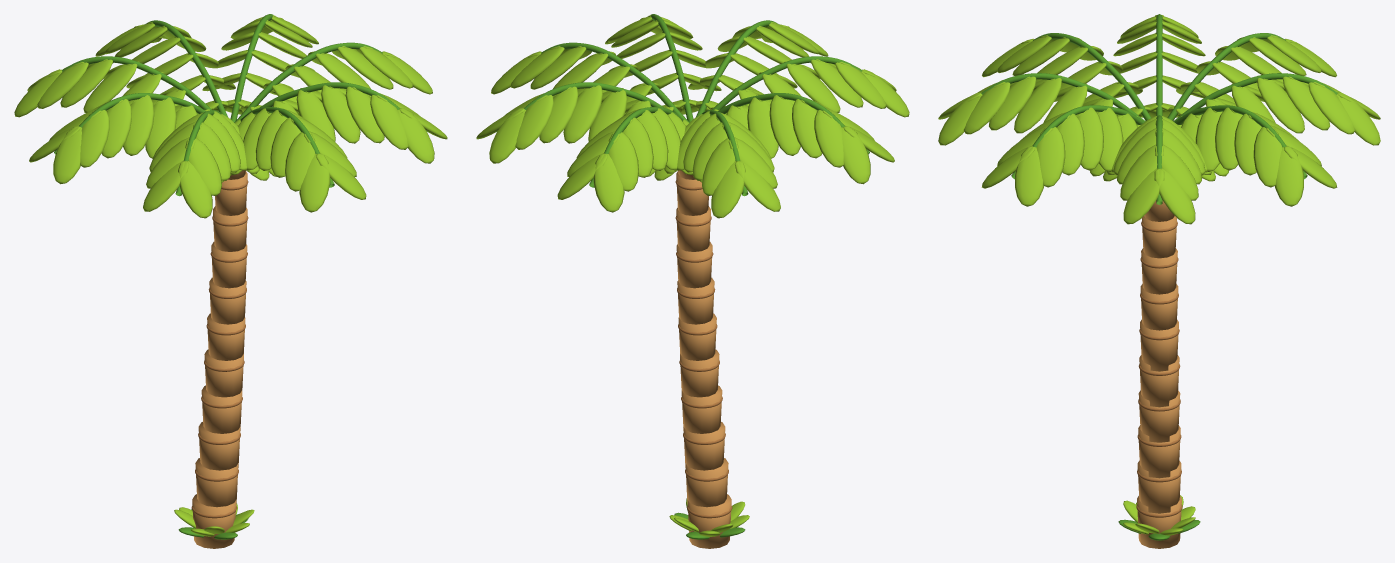
Rendered from palm.glb.
3 renders of one model, left to right at view 1: azimuth 30°, elevation 25°; view 2: azimuth 150°, elevation 25°; view 3: azimuth 270°, elevation 25°, orthographic.
Visible parts, largest first — view 1: palm; view 2: palm; view 3: palm.
Boxes of the visible parts, left/top/right/bottom form: palm: left=14, top=14, right=447, bottom=548; palm: left=476, top=14, right=909, bottom=548; palm: left=938, top=14, right=1380, bottom=548.
Bounding box in the file's own units: 2.26 × 2.68 × 2.26.
